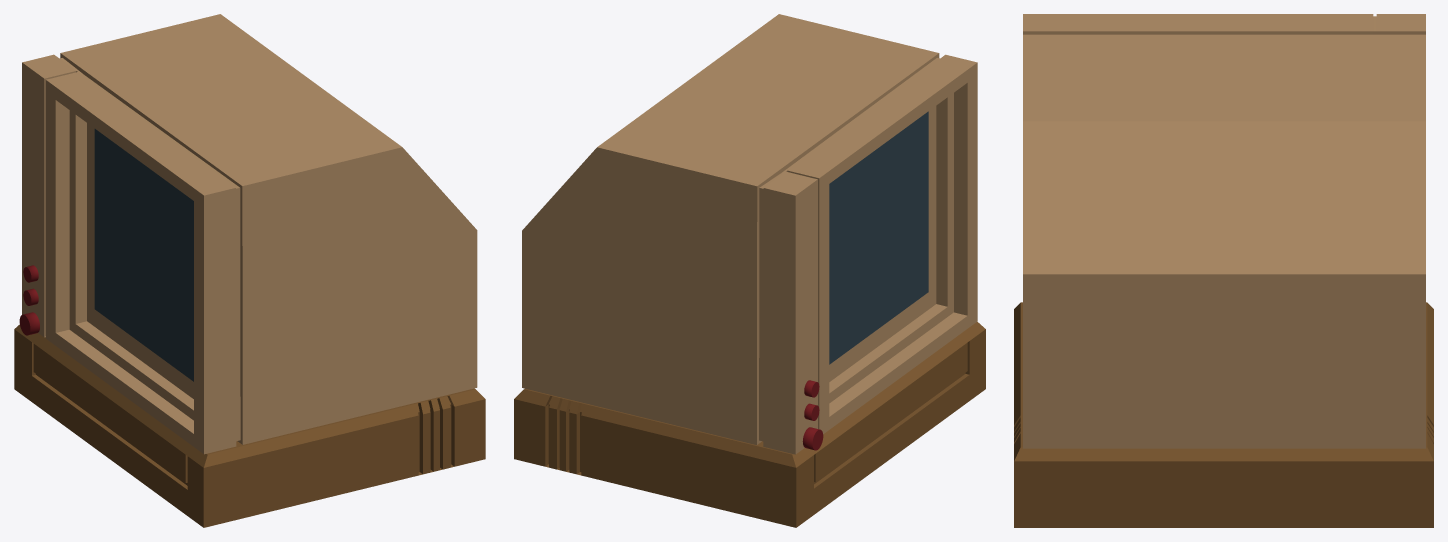
The model's file is monitor_tier3.fbx.
The picture shows the model from 3 angles, left to right: view 1: azimuth 30°, elevation 25°; view 2: azimuth 150°, elevation 25°; view 3: azimuth 270°, elevation 25°; orthographic projection. The views are drawn at different scales.
Parts seen in each view (by area): view 1: Cube, Cube.001; view 2: Cube, Cube.001; view 3: Cube, Cube.001.
Boxes of the visible parts, <box> form: Cube: <box>22,14,477,454</box>; Cube.001: <box>14,324,485,527</box>; Cube: <box>522,14,977,454</box>; Cube.001: <box>514,321,985,527</box>; Cube: <box>1023,14,1425,448</box>; Cube.001: <box>1014,302,1433,527</box>.
Size of the model in its own units: 0.6738 by 0.7359 by 0.7695.
